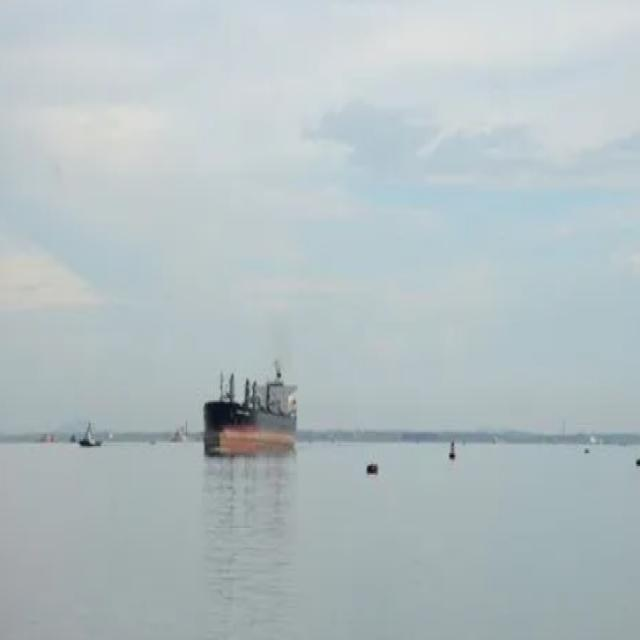cargoship: (200, 359, 300, 462), (78, 416, 104, 447)
